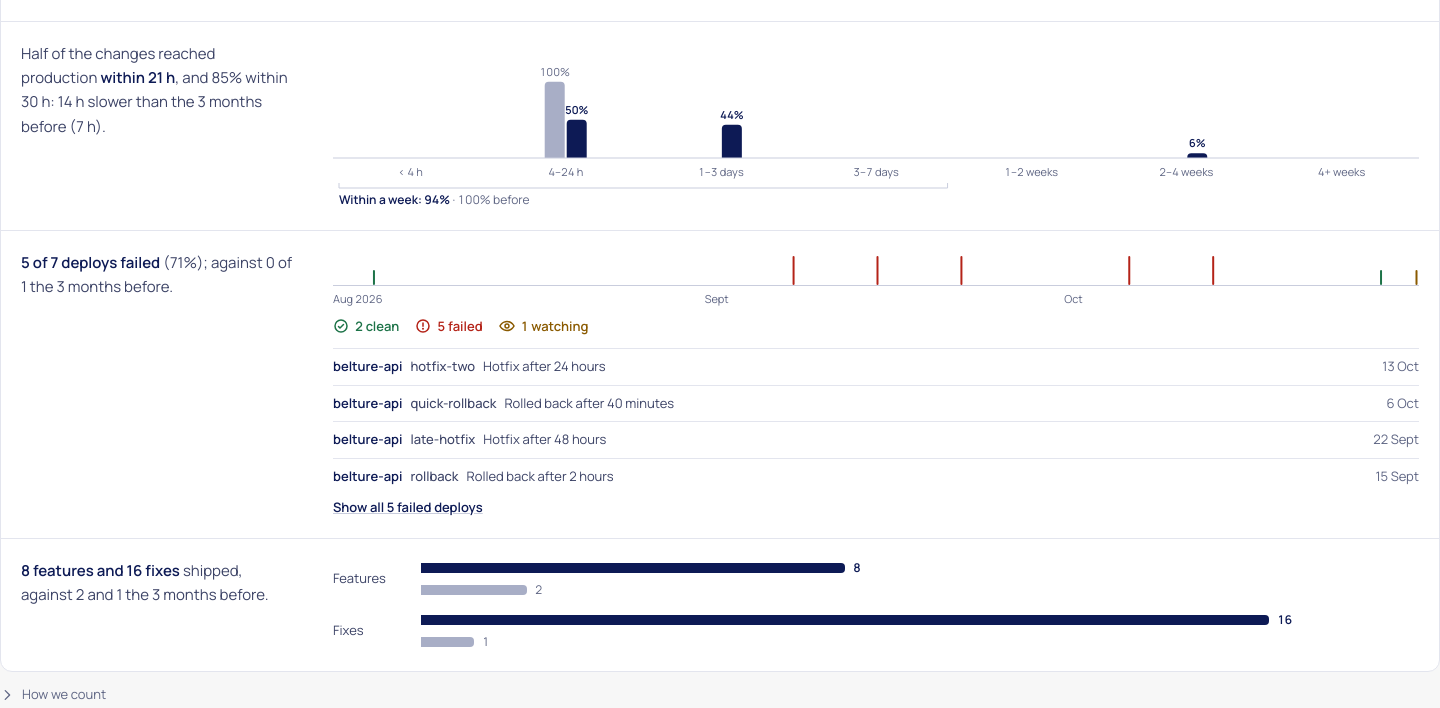
Test: PeriodSection › lists what failed and why, and opens the whole list
Later steps or results of the test are not shown.
(page scrolled)
Expected: the text "2 clean" is shown, x1=333 y1=316 x2=399 y2=336
Expected: the text "5 failed" is shown, x1=415 y1=316 x2=483 y2=336
Click the button "Show all 5 failed deploys": (408, 508) x1=333 y1=498 x2=483 y2=518
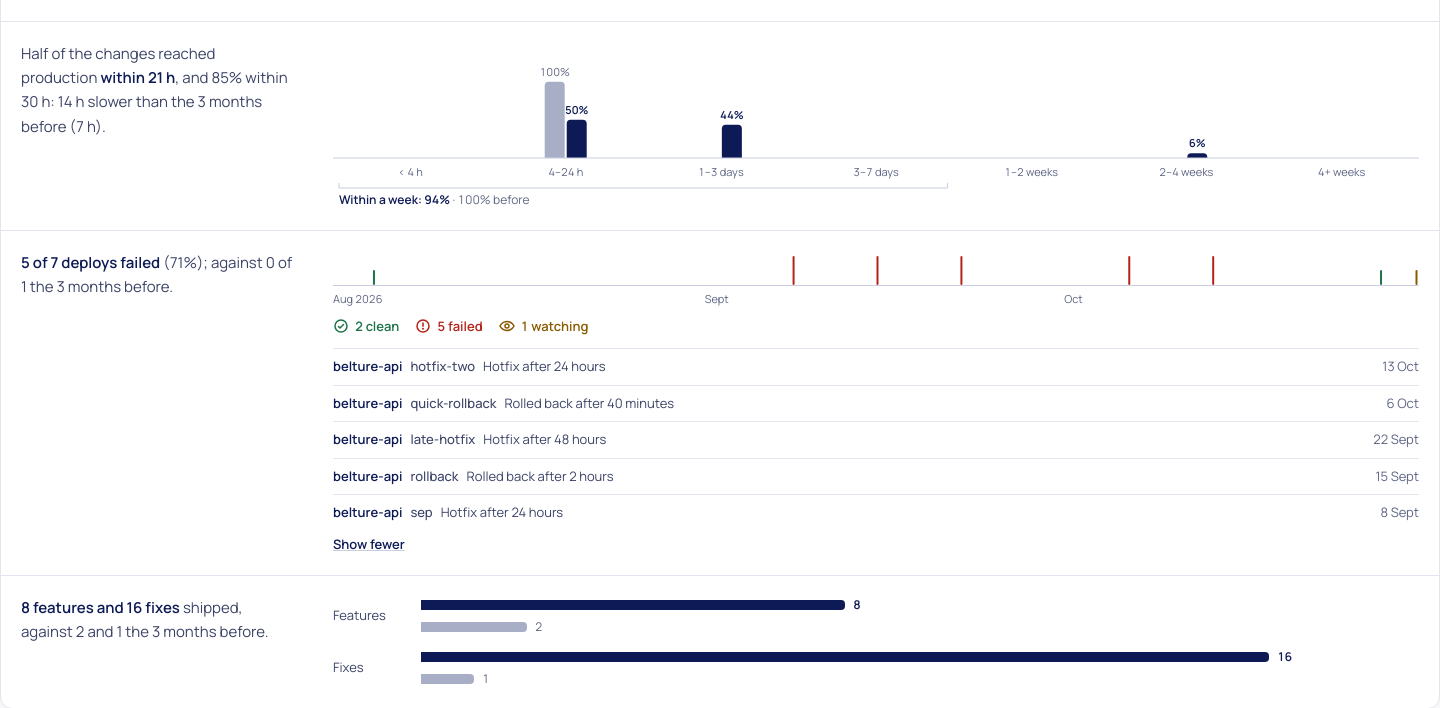
Now the text "Hotfix after 24 hours" is shown 2 times, box x1=483 y1=357 x2=606 y2=376; x1=441 y1=503 x2=563 y2=522
